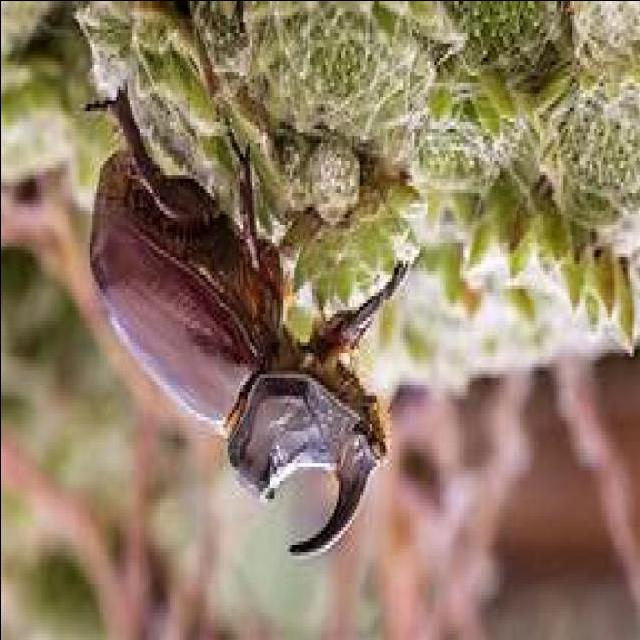Rhino-beetle: (8, 95, 446, 548)
